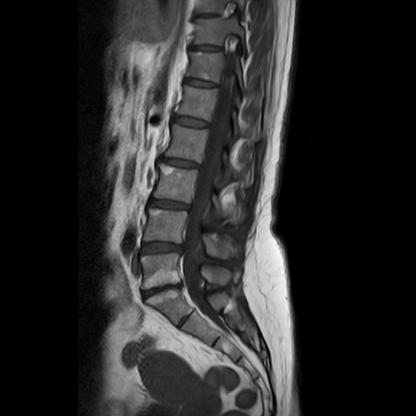Disc Bulgerotation: (139, 281, 183, 301), (139, 239, 185, 257)
